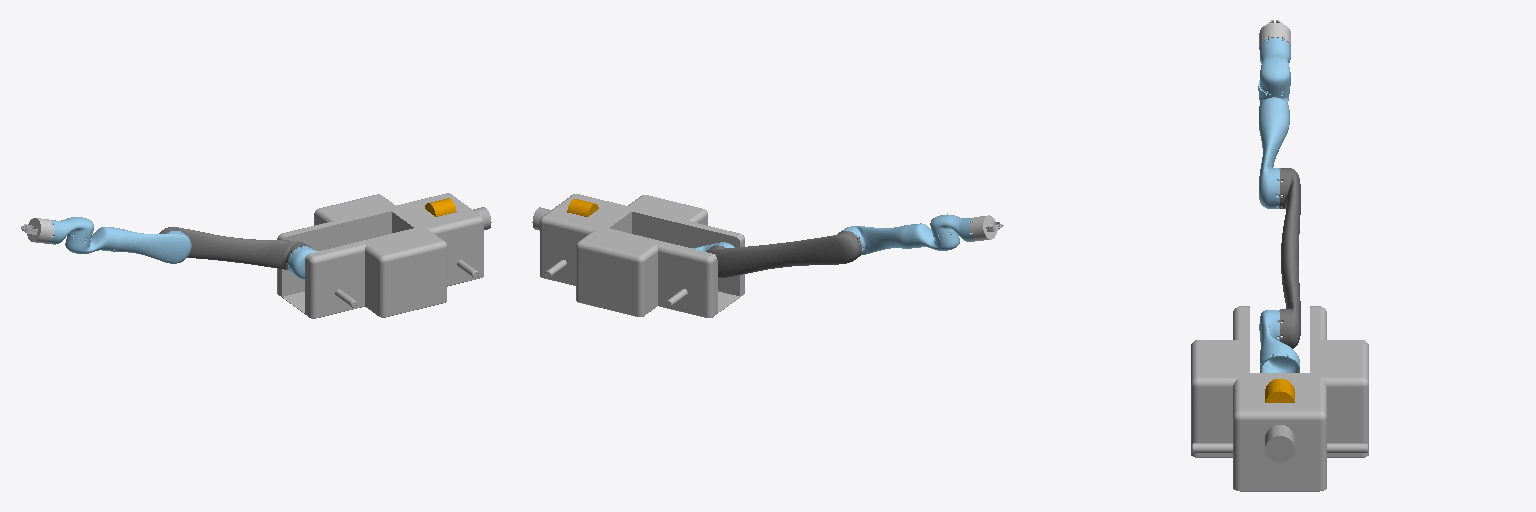
--- Render facts (derived) ---
3 views of the same robot in one strip: view 1: azimuth 30°, elevation 25°; view 2: azimuth 150°, elevation 25°; view 3: azimuth 270°, elevation 25° (orthographic).
Robot: mira — 18 links, 17 joints (5 revolute, 5 continuous, 7 fixed); root link base_link; default pose: every joint at zero.
Visible links, largest first — view 1: mobile_base_chassis, kinova_link2, kinova_link3, kinova_link4, kinova_link5, kinova_link6; view 2: mobile_base_chassis, kinova_link2, kinova_link3, kinova_link4, kinova_link5, kinova_link6; view 3: mobile_base_chassis, kinova_link2, kinova_link3, kinova_link1, kinova_link5, mobile_base_lidar_frame, mobile_base_2d_lidar_frame.
Boxes of the visible links, x1,y1,x2,y2 form: mobile_base_chassis: (277, 193, 483, 318); kinova_link2: (159, 227, 310, 269); kinova_link3: (112, 227, 191, 263); kinova_link4: (65, 227, 118, 253); kinova_link5: (48, 217, 93, 244); kinova_link6: (21, 218, 53, 243); mobile_base_chassis: (540, 194, 744, 317); kinova_link2: (706, 231, 861, 277); kinova_link3: (842, 224, 912, 256); kinova_link4: (906, 223, 959, 250); kinova_link5: (930, 214, 975, 241); kinova_link6: (970, 215, 1003, 240); mobile_base_chassis: (1191, 306, 1368, 491); kinova_link2: (1280, 168, 1300, 348); kinova_link3: (1259, 106, 1289, 208); kinova_link1: (1259, 310, 1299, 372); kinova_link5: (1260, 37, 1290, 94); mobile_base_lidar_frame: (1265, 425, 1294, 462); mobile_base_2d_lidar_frame: (1265, 379, 1294, 402).
Bounding box of the posed robot: 1.4 × 0.36 × 0.4387 m (x, y, z).
7 mesh visuals loaded from 10 distinct referenced files (6 binary STL); not drawn: 6 (reference not matched to a file when rendering).

URDF robot description (mira):
<?xml version="1.0" ?>
<!-- =================================================================================== -->
<!-- |    This document was autogenerated by xacro from mira.xacro                     | -->
<!-- |    EDITING THIS FILE BY HAND IS NOT RECOMMENDED                                 | -->
<!-- =================================================================================== -->
<robot name="mira">
  <link name="mobile_base_base_link"/>
  <joint name="mobile_base_base_link_to_base" type="fixed">
    <parent link="mobile_base_base_link"/>
    <child link="mobile_base_chassis"/>
    <origin rpy="1.5707963267948966 0 0" xyz="0 0 0"/>
  </joint>
  <link name="mobile_base_chassis">
    <visual>
      <origin rpy="0 -0 0" xyz="0 0 0"/>
      <geometry>
        <mesh filename="package://sps/urdf/mobile_base_models/chassis.stl"/>
      </geometry>
      <material name="chassis_material">
        <color rgba="0.74902 0.74902 0.74902 1.0"/>
      </material>
    </visual>
    <collision>
      <geometry>
        <mesh filename="package://sps/urdf/mobile_base_models/chassis.stl"/>
      </geometry>
    </collision>
    <inertial>
      <origin rpy="0 0 0" xyz="3.03885e-10 0.0866061 -4.21983e-12"/>
      <mass value="22"/>
      <inertia ixx="0.254" ixy="-1.648e-9" ixz="-2.434e-08" iyy="0.656" iyz="3.684e-10" izz="0.532"/>
    </inertial>
  </link>
  <gazebo reference="mobile_base_chassis">
    <material>Gazebo/DarkGrey</material>
  </gazebo>
  <joint name="mobile_base_joint_front_dx" type="continuous">
    <origin rpy="0 0 0" xyz="0.183 0.06 0.1355"/>
    <parent link="mobile_base_chassis"/>
    <child link="mobile_base_omniwheel_front_dx"/>
    <axis xyz="0 0 1"/>
    <limit effort="1" velocity="20"/>
    <joint_properties friction="0.0"/>
  </joint>
  <link name="mobile_base_omniwheel_front_dx">
    <visual>
      <origin rpy="3.141592653589793 0 0" xyz="0 0 0"/>
      <geometry>
        <mesh filename="package://sps/urdf/mobile_base_models/omniwheel_A.stl"/>
      </geometry>
    </visual>
    <collision>
      <origin rpy="3.141592653589793 0 0" xyz="0 0 0"/>
      <geometry>
        <cylinder length="0.08" radius="0.076"/>
      </geometry>
    </collision>
    <inertial>
      <origin rpy="0 1.5707963267948966 0" xyz="0 0 0"/>
      <mass value="3.5"/>
      <inertia ixx="0.006920666666666667" ixy="0" ixz="0" iyx="0" iyy="0.006920666666666667" iyz="0" izx="0" izy="0" izz="0.010108"/>
    </inertial>
  </link>
  <gazebo reference="mobile_base_omniwheel_front_dx">
    <material>Gazebo/Orange</material>
  </gazebo>
  <joint name="mobile_base_joint_front_sx" type="continuous">
    <origin rpy="0 0 0" xyz="0.183 0.06 -0.1355"/>
    <parent link="mobile_base_chassis"/>
    <child link="mobile_base_omniwheel_front_sx"/>
    <axis xyz="0 0 1"/>
    <limit effort="1" velocity="20"/>
    <joint_properties friction="0.0"/>
  </joint>
  <link name="mobile_base_omniwheel_front_sx">
    <visual>
      <origin rpy="3.141592653589793 0 0" xyz="0 0 0"/>
      <geometry>
        <mesh filename="package://sps/urdf/mobile_base_models/omniwheel_B.stl"/>
      </geometry>
    </visual>
    <collision>
      <origin rpy="3.141592653589793 0 0" xyz="0 0 0"/>
      <geometry>
        <cylinder length="0.08" radius="0.076"/>
      </geometry>
    </collision>
    <inertial>
      <origin rpy="0 1.5707963267948966 0" xyz="0 0 0"/>
      <mass value="3.5"/>
      <inertia ixx="0.006920666666666667" ixy="0" ixz="0" iyx="0" iyy="0.006920666666666667" iyz="0" izx="0" izy="0" izz="0.010108"/>
    </inertial>
  </link>
  <gazebo reference="mobile_base_omniwheel_front_sx">
    <material>Gazebo/Orange</material>
  </gazebo>
  <joint name="mobile_base_joint_rear_sx" type="continuous">
    <origin rpy="0 0 0" xyz="-0.183 0.06 -0.1355"/>
    <parent link="mobile_base_chassis"/>
    <child link="mobile_base_omniwheel_rear_sx"/>
    <axis xyz="0 0 1"/>
    <limit effort="1" velocity="20"/>
    <joint_properties friction="0.0"/>
  </joint>
  <link name="mobile_base_omniwheel_rear_sx">
    <visual>
      <origin rpy="3.141592653589793 0 0" xyz="0 0 0"/>
      <geometry>
        <mesh filename="package://sps/urdf/mobile_base_models/omniwheel_A.stl"/>
      </geometry>
    </visual>
    <collision>
      <origin rpy="3.141592653589793 0 0" xyz="0 0 0"/>
      <geometry>
        <cylinder length="0.08" radius="0.076"/>
      </geometry>
    </collision>
    <inertial>
      <origin rpy="0 1.5707963267948966 0" xyz="0 0 0"/>
      <mass value="3.5"/>
      <inertia ixx="0.006920666666666667" ixy="0" ixz="0" iyx="0" iyy="0.006920666666666667" iyz="0" izx="0" izy="0" izz="0.010108"/>
    </inertial>
  </link>
  <gazebo reference="mobile_base_omniwheel_rear_sx">
    <material>Gazebo/Orange</material>
  </gazebo>
  <joint name="mobile_base_joint_rear_dx" type="continuous">
    <origin rpy="0 0 0" xyz="-0.183 0.06 0.1355"/>
    <parent link="mobile_base_chassis"/>
    <child link="mobile_base_omniwheel_rear_dx"/>
    <axis xyz="0 0 1"/>
    <limit effort="1" velocity="20"/>
    <joint_properties friction="0.0"/>
  </joint>
  <link name="mobile_base_omniwheel_rear_dx">
    <visual>
      <origin rpy="3.141592653589793 0 0" xyz="0 0 0"/>
      <geometry>
        <mesh filename="package://sps/urdf/mobile_base_models/omniwheel_B.stl"/>
      </geometry>
    </visual>
    <collision>
      <origin rpy="3.141592653589793 0 0" xyz="0 0 0"/>
      <geometry>
        <cylinder length="0.08" radius="0.076"/>
      </geometry>
    </collision>
    <inertial>
      <origin rpy="0 1.5707963267948966 0" xyz="0 0 0"/>
      <mass value="3.5"/>
      <inertia ixx="0.006920666666666667" ixy="0" ixz="0" iyx="0" iyy="0.006920666666666667" iyz="0" izx="0" izy="0" izz="0.010108"/>
    </inertial>
  </link>
  <gazebo reference="mobile_base_omniwheel_rear_dx">
    <material>Gazebo/Orange</material>
  </gazebo>
  <joint name="mobile_base_camera_joint" type="fixed">
    <origin rpy="1.5707963267948966 0 1.5707963267948966" xyz="0.285 0 0.075"/>
    <parent link="mobile_base_base_link"/>
    <child link="mobile_base_camera_rgb_frame"/>
  </joint>
  <link name="mobile_base_camera_rgb_frame">
    <visual name="visual">
      <pose>0 0 0.27 0 0 0</pose>
      <geometry>
        <mesh filename="package://realsense2_description/meshes/d435.dae"/>
      </geometry>
    </visual>
    <collision>
      <origin rpy="0 0 0" xyz="0 0 0"/>
      <geometry>
        <cylinder length="0.062" radius="0.03"/>
      </geometry>
    </collision>
  </link>
  <gazebo reference="mobile_base_camera_rgb_frame">
    <material>Gazebo/Orange</material>
  </gazebo>
  <joint name="mobile_base_lidar_joint" type="fixed">
    <origin rpy="1.5707963267948966 0 1.5707963267948966" xyz="0.285 0 0.12"/>
    <parent link="mobile_base_base_link"/>
    <child link="mobile_base_lidar_frame"/>
  </joint>
  <link name="mobile_base_lidar_frame">
    <visual name="visual">
      <pose>0 0 0.27 0 0 0</pose>
      <geometry>
        <cylinder length="0.062" radius="0.03"/>
      </geometry>
    </visual>
    <collision>
      <origin rpy="0 0 0" xyz="0 0 0"/>
      <geometry>
        <cylinder length="0.062" radius="0.03"/>
      </geometry>
    </collision>
  </link>
  <gazebo reference="mobile_base_lidar_frame">
    <material>Gazebo/Orange</material>
  </gazebo>
  <joint name="mobile_base_2d_lidar_joint" type="fixed">
    <origin rpy="1.5707963267948966 0 1.5707963267948966" xyz="0.18 0 0.17"/>
    <parent link="mobile_base_base_link"/>
    <child link="mobile_base_2d_lidar_frame"/>
  </joint>
  <link name="mobile_base_2d_lidar_frame">
    <visual name="visual">
      <pose>0 0 0.27 0 0 0</pose>
      <geometry>
        <cylinder length="0.062" radius="0.03"/>
      </geometry>
    </visual>
    <collision>
      <origin rpy="0 0 0" xyz="0 0 0"/>
      <geometry>
        <cylinder length="0.062" radius="0.03"/>
      </geometry>
    </collision>
  </link>
  <gazebo reference="mobile_base_2d_lidar_frame">
    <material>Gazebo/Orange</material>
  </gazebo>
  <gazebo>
    <plugin filename="libgazebo_ros_planar_move.so" name="robot_controller">
      <commandTopic>cmd_vel</commandTopic>
      <odometryTopic>odom</odometryTopic>
      <odometryFrame>odom</odometryFrame>
      <odometryRate>20.0</odometryRate>
      <robotBaseFrame>base_link</robotBaseFrame>
    </plugin>
  </gazebo>
  <gazebo reference="mobile_base_camera_rgb_frame">
    <sensor name="camera" type="camera">
      <update_rate>30.0</update_rate>
      <camera name="head">
        <horizontal_fov>1.97222</horizontal_fov>
        <image>
          <width>1920</width>
          <height>1080</height>
          <format>R8G8B8</format>
        </image>
        <clip>
          <near>0.02</near>
          <far>100</far>
        </clip>
        <noise>
          <type>gaussian</type>
          <mean>0.0</mean>
          <stddev>0.007</stddev>
        </noise>
      </camera>
      <plugin filename="libgazebo_ros_camera.so" name="camera_controller">
        <alwaysOn>true</alwaysOn>
        <updateRate>0.0</updateRate>
        <cameraName>mobile_base_camera</cameraName>
        <imageTopicName>mobile_base_image_raw</imageTopicName>
        <cameraInfoTopicName>mobile_base_camera_info</cameraInfoTopicName>
        <frameName>mobile_base_camera_rgb_optical_frame</frameName>
        <hackBaseline>0.07</hackBaseline>
        <distortionK1>-0.35925741</distortionK1>
        <distortionK2>0.16575977</distortionK2>
        <distortionK3>-0.03662964</distortionK3>
        <distortionT1>0.00264587</distortionT1>
        <distortionT2>0.00037099</distortionT2>
      </plugin>
    </sensor>
  </gazebo>
  <!-- Bumpers -->
  <gazebo reference="mobile_base_chassis">
    <sensor name="mobile_base_chassis_bumper" type="contact">
      <alwaysOn>true</alwaysOn>
      <updateRate>30.0</updateRate>
      <contact>
        <collision>base_link_fixed_joint_lump__mobile_base_chassis_collision</collision>
      </contact>
      <plugin filename="libgazebo_ros_bumper.so" name="gazebo_ros_bumper_controller">
        <bumperTopicName>bumper</bumperTopicName>
        <frameName>world</frameName>
        <updateRate>30.0</updateRate>
      </plugin>
    </sensor>
  </gazebo>
  <gazebo reference="mobile_base_omniwheel_front_dx">
    <sensor name="mobile_base_omniwheel_front_dx_collision_bumper" type="contact">
      <alwaysOn>true</alwaysOn>
      <updateRate>30.0</updateRate>
      <contact>
        <collision>mobile_base_omniwheel_front_dx_collision</collision>
      </contact>
      <plugin filename="libgazebo_ros_bumper.so" name="gazebo_ros_bumper_controller">
        <bumperTopicName>bumper</bumperTopicName>
        <frameName>world</frameName>
        <updateRate>30.0</updateRate>
      </plugin>
    </sensor>
  </gazebo>
  <gazebo reference="mobile_base_omniwheel_front_sx">
    <sensor name="mobile_base_omniwheel_front_sx_collision_bumper" type="contact">
      <alwaysOn>true</alwaysOn>
      <updateRate>30.0</updateRate>
      <contact>
        <collision>mobile_base_omniwheel_front_sx_collision</collision>
      </contact>
      <plugin filename="libgazebo_ros_bumper.so" name="gazebo_ros_bumper_controller">
        <bumperTopicName>bumper</bumperTopicName>
        <frameName>world</frameName>
        <updateRate>30.0</updateRate>
      </plugin>
    </sensor>
  </gazebo>
  <gazebo reference="mobile_base_omniwheel_rear_dx">
    <sensor name="mobile_base_omniwheel_rear_dx_collision_bumper" type="contact">
      <alwaysOn>true</alwaysOn>
      <updateRate>30.0</updateRate>
      <contact>
        <collision>mobile_base_omniwheel_rear_dx_collision</collision>
      </contact>
      <plugin filename="libgazebo_ros_bumper.so" name="gazebo_ros_bumper_controller">
        <bumperTopicName>bumper</bumperTopicName>
        <frameName>world</frameName>
        <updateRate>30.0</updateRate>
      </plugin>
    </sensor>
  </gazebo>
  <gazebo reference="mobile_base_omniwheel_rear_sx">
    <sensor name="mobile_base_omniwheel_rear_sx_collision_bumper" type="contact">
      <alwaysOn>true</alwaysOn>
      <updateRate>30.0</updateRate>
      <contact>
        <collision>mobile_base_omniwheel_rear_sx_collision</collision>
      </contact>
      <plugin filename="libgazebo_ros_bumper.so" name="gazebo_ros_bumper_controller">
        <bumperTopicName>bumper</bumperTopicName>
        <frameName>world</frameName>
        <updateRate>30.0</updateRate>
      </plugin>
    </sensor>
  </gazebo>
  <gazebo>
    <plugin filename="libgazebo_ros_p3d.so" name="p3d_base_controller">
      <alwaysOn>true</alwaysOn>
      <updateRate>50.0</updateRate>
      <bodyName>base_link</bodyName>
      <topicName>ground_truth/odom</topicName>
      <gaussianNoise>0.01</gaussianNoise>
      <frameName>world</frameName>
      <xyzOffsets>0 0 0</xyzOffsets>
      <rpyOffsets>0 0 0</rpyOffsets>
    </plugin>
  </gazebo>
  <!-- The following is an handmade document. Please refer to the official repository at https://github.com/Kinovarobotics/kinova-ros/blob/master/kinova_description/urdf/j2s6s200_standalone.xacro -->
  <!-- Size of square 'camera' box -->
  <link name="kinova_base_link"/>
  <joint name="kinova_base_link_to_base" type="fixed">
    <parent link="kinova_base_link"/>
    <child link="kinova_link0"/>
    <origin rpy="0 0 0" xyz="0 0 0"/>
  </joint>
  <link name="kinova_link0">
    <visual>
      <origin rpy="0 0 0" xyz="0 0 0"/>
      <geometry>
        <mesh filename="package://sps/urdf/kinova_models/link0.stl"/>
      </geometry>
      <material name="link0_material">
        <color rgba="0.972549 0.529412 0.00392157 1"/>
      </material>
    </visual>
    <collision>
      <origin rpy="0 0 0" xyz="0 0 0"/>
      <geometry>
        <mesh filename="package://sps/urdf/kinova_models/link0.stl"/>
      </geometry>
      <material name="link0_material">
        <color rgba="0.972549 0.529412 0.00392157 1"/>
      </material>
    </collision>
    <inertial>
      <origin rpy="0 0 0" xyz="0 0 0.07825"/>
      <mass value="0.46784"/>
      <inertia ixx="0.0009512746666666666" ixy="0" ixz="0" iyx="0" iyy="0.0009512746666666666" iyz="0" izx="0" izy="0" izz="0.00037427200000000004"/>
    </inertial>
  </link>
  <gazebo reference="kinova_link0">
    <material>Gazebo/Indigo</material>
  </gazebo>
  <joint name="kinova_joint1" type="revolute">
    <origin rpy="0 0 0" xyz="0 0 0.1565"/>
    <parent link="kinova_link0"/>
    <child link="kinova_link1"/>
    <axis xyz="0 0 1"/>
    <limit effort="1" lower="-3.141592653589793" torque="40" upper="3.141592653589793" velocity="0.6283185307179586"/>
    <joint_properties friction="0"/>
  </joint>
  <link name="kinova_link1">
    <visual>
      <origin rpy="0 -1.5707963267948966 0" xyz="0 0 0"/>
      <geometry>
        <mesh filename="package://sps/urdf/kinova_models/link1.stl"/>
      </geometry>
      <material name="link1_material">
        <color rgba="0.615686 0.811765 0.929412 1"/>
      </material>
    </visual>
    <collision>
      <origin rpy="0 -1.5707963267948966 0" xyz="0 0 0"/>
      <geometry>
        <mesh filename="package://sps/urdf/kinova_models/link1.stl"/>
      </geometry>
      <material name="link1_material">
        <color rgba="0.615686 0.811765 0.929412 1"/>
      </material>
    </collision>
    <inertial>
      <origin xyz="0 0.0007 0.05925"/>
      <mass value="0.7477"/>
      <inertia ixx="0.0015203233333333334" ixy="0" ixz="0" iyx="0" iyy="0.0015203233333333334" iyz="0" izx="0" izy="0" izz="0.00059816"/>
    </inertial>
  </link>
  <gazebo reference="kinova_link1">
    <material>Gazebo/Indigo</material>
  </gazebo>
  <joint name="kinova_joint2" type="revolute">
    <origin rpy="0 -1.5707963267948966 0" xyz="0 0.0015 0.1185"/>
    <parent link="kinova_link1"/>
    <child link="kinova_link2"/>
    <axis xyz="0 0 1"/>
    <limit effort="1" lower="-3.141592653589793" torque="80" upper="3.141592653589793" velocity="0.6283185307179586"/>
    <joint_properties friction="0.0"/>
  </joint>
  <link name="kinova_link2">
    <visual>
      <origin rpy="-1.5707963267948966 -1.5707963267948966 1.5707963267948966" xyz="0 0 0"/>
      <geometry>
        <mesh filename="package://sps/urdf/kinova_models/link2.stl"/>
      </geometry>
      <material name="link2_material">
        <color rgba="0.498039 0.498039 0.498039 1.0"/>
      </material>
    </visual>
    <collision>
      <origin rpy="-1.5707963267948966 -1.5707963267948966 1.5707963267948966" xyz="0 0 0"/>
      <geometry>
        <mesh filename="package://sps/urdf/kinova_models/link2.stl"/>
      </geometry>
      <material name="link2_material">
        <color rgba="0.498039 0.498039 0.498039 1.0"/>
      </material>
    </collision>
    <inertial>
      <origin rpy="-1.5707963267948966 -1.5707963267948966 1.5707963267948966" xyz="0.205 0 0"/>
      <mass value="0.99"/>
      <inertia ixx="0.01050225" ixy="0" ixz="0" iyx="0" iyy="0.01050225" iyz="0" izx="0" izy="0" izz="0.0007920000000000001"/>
    </inertial>
  </link>
  <gazebo reference="kinova_link2">
    <material>Gazebo/Indigo</material>
  </gazebo>
  <joint name="kinova_joint3" type="revolute">
    <origin rpy="0 0 0" xyz="0.41 0 0"/>
    <parent link="kinova_link2"/>
    <child link="kinova_link3"/>
    <axis xyz="0 0 1"/>
    <limit effort="1" lower="-3.141592653589793" torque="40" upper="3.141592653589793" velocity="0.6283185307179586"/>
    <joint_properties friction="0.0"/>
  </joint>
  <link name="kinova_link3">
    <visual>
      <origin rpy="3.141592653589793 1.5707963267948966 0" xyz="0 0 0"/>
      <geometry>
        <mesh filename="package://sps/urdf/kinova_models/link3.stl"/>
      </geometry>
      <material name="link3_material">
        <color rgba="0.615686 0.811765 0.929412 1.0"/>
      </material>
    </visual>
    <collision>
      <origin rpy="3.141592653589793 1.5707963267948966 0" xyz="0 0 0"/>
      <geometry>
        <mesh filename="package://sps/urdf/kinova_models/link3.stl"/>
      </geometry>
      <material name="link3_material">
        <color rgba="0.615686 0.811765 0.929412 1.0"/>
      </material>
    </collision>
    <inertial>
      <origin rpy="3.141592653589793 1.5707963267948966 0" xyz="0.1035 0  -0.005625"/>
      <mass value="0.6763"/>
      <inertia ixx="0.0014202300000000002" ixy="0" ixz="0" iyx="0" iyy="0.0014202300000000002" iyz="0" izx="0" izy="0" izz="0.000304335"/>
    </inertial>
  </link>
  <gazebo reference="kinova_link3">
    <material>Gazebo/Indigo</material>
  </gazebo>
  <joint name="kinova_joint4" type="revolute">
    <origin rpy="0 1.5707963267948966 0" xyz="0.207 0  -0.01125"/>
    <parent link="kinova_link3"/>
    <child link="kinova_link4"/>
    <axis xyz="0 0 1"/>
    <limit effort="1" lower="-3.141592653589793" torque="20" upper="3.141592653589793" velocity="0.8377580409572781"/>
    <joint_properties friction="0.0"/>
  </joint>
  <link name="kinova_link4">
    <visual>
      <origin rpy="0 -1.5707963267948966 0" xyz="0 0 0"/>
      <geometry>
        <mesh filename="package://sps/urdf/kinova_models/link4.stl"/>
      </geometry>
      <material name="link4_material">
        <color rgba="0.615686 0.811765 0.929412 1.0"/>
      </material>
    </visual>
    <collision>
      <origin rpy="0 -1.5707963267948966 0" xyz="0 0 0"/>
      <geometry>
        <mesh filename="package://sps/urdf/kinova_models/link4.stl"/>
      </geometry>
      <material name="link4_material">
        <color rgba="0.615686 0.811765 0.929412 1.0"/>
      </material>
    </collision>
    <inertial>
      <origin rpy="0 0 0" xyz="-0.00125 0 0.04825"/>
      <mass value="0.463"/>
      <inertia ixx="0.00043213333333333345" ixy="0" ixz="0" iyx="0" iyy="0.00043213333333333345" iyz="0" izx="0" izy="0" izz="9.260000000000001e-05"/>
    </inertial>
  </link>
  <gazebo reference="kinova_link4">
    <material>Gazebo/Indigo</material>
  </gazebo>
  <joint name="kinova_joint5" type="continuous">
    <origin rpy="-1.5707963267948966 -1.5707963267948966 0" xyz="-0.0025 0 0.0965"/>
    <parent link="kinova_link4"/>
    <child link="kinova_link5"/>
    <axis xyz="0 0 1"/>
    <limit effort="1" lower="-3.141592653589793" torque="20" upper="3.141592653589793" velocity="0.8377580409572781"/>
    <joint_properties friction="0.0"/>
  </joint>
  <link name="kinova_link5">
    <visual>
      <origin rpy="-1.5707963267948966 0 3.141592653589793" xyz="0.0965 0 0"/>
      <geometry>
        <mesh filename="package://sps/urdf/kinova_models/link4.stl"/>
      </geometry>
      <material name="link4_material">
        <color rgba="0.615686 0.811765 0.929412 1.0"/>
      </material>
    </visual>
    <collision>
      <origin rpy="-1.5707963267948966 0 3.141592653589793" xyz="0.0965 0 0"/>
      <geometry>
        <mesh filename="package://sps/urdf/kinova_models/link4.stl"/>
      </geometry>
      <material name="link4_material">
        <color rgba="0.615686 0.811765 0.929412 1.0"/>
      </material>
    </collision>
    <inertial>
      <origin rpy="0 1.5707963267948966 0" xyz="0.05175 0 0.000125"/>
      <mass value="0.463"/>
      <inertia ixx="0.00043213333333333345" ixy="0" ixz="0" iyx="0" iyy="0.00043213333333333345" iyz="0" izx="0" izy="0" izz="9.260000000000001e-05"/>
    </inertial>
  </link>
  <gazebo reference="kinova_link5">
    <material>Gazebo/Indigo</material>
  </gazebo>
  <joint name="kinova_joint6" type="revolute">
    <origin rpy="1.5707963267948966 0 1.5707963267948966" xyz="0.101 0 0.00025"/>
    <parent link="kinova_link5"/>
    <child link="kinova_link6"/>
    <axis xyz="0 0 1"/>
    <limit effort="1" lower="-3.141592653589793" torque="20" upper="3.141592653589793" velocity="0.8377580409572781"/>
    <joint_properties friction="0.0"/>
  </joint>
  <link name="kinova_link6">
    <visual>
      <origin rpy="0 0 0" xyz="0 0 0"/>
      <geometry>
        <mesh filename="package://sps/urdf/kinova_models/link6.stl"/>
      </geometry>
      <material name="armsuppaxis001_(solid)_material">
        <color rgba="0.8 0.8 0.8 1.0"/>
      </material>
    </visual>
    <collision>
      <origin rpy="0 0 0" xyz="0 0 0"/>
      <geometry>
        <mesh filename="package://sps/urdf/kinova_models/link6.stl"/>
      </geometry>
      <material name="armsuppaxis001_(solid)_material">
        <color rgba="0.8 0.8 0.8 1.0"/>
      </material>
    </collision>
    <inertial>
      <origin rpy="0 0 0" xyz="0 0 0.032347"/>
      <mass value="0.059265"/>
      <inertia ixx="2.97358e-05" ixy="-5.33355e-13" ixz="-1.85073e-09" iyy="3.04484e-05" iyz="-4.08259e-11" izz="3.72715e-05"/>
    </inertial>
  </link>
  <gazebo reference="kinova_link6">
    <material>Gazebo/White</material>
  </gazebo>
  <gazebo reference="kinova_camera_rgb_frame">
    <material>Gazebo/Orange</material>
  </gazebo>
  <gazebo reference="kinova_link0">
    <selfCollide>true</selfCollide>
  </gazebo>
  <gazebo reference="kinova_link1">
    <selfCollide>true</selfCollide>
  </gazebo>
  <gazebo reference="kinova_link2">
    <selfCollide>true</selfCollide>
  </gazebo>
  <gazebo reference="kinova_link3">
    <selfCollide>true</selfCollide>
  </gazebo>
  <gazebo reference="kinova_link4">
    <selfCollide>true</selfCollide>
  </gazebo>
  <gazebo reference="kinova_link5">
    <selfCollide>true</selfCollide>
  </gazebo>
  <gazebo reference="kinova_link6">
    <selfCollide>true</selfCollide>
  </gazebo>
  <!-- Camera -->
  <gazebo reference="kinova_camera_rgb_frame">
    <sensor name="camera" type="camera">
      <update_rate>30.0</update_rate>
      <camera name="head">
        <horizontal_fov>1.97222</horizontal_fov>
        <image>
          <width>1920</width>
          <height>1080</height>
          <format>R8G8B8</format>
        </image>
        <clip>
          <near>0.02</near>
          <far>100</far>
        </clip>
        <noise>
          <type>gaussian</type>
          <mean>0.0</mean>
          <stddev>0.007</stddev>
        </noise>
      </camera>
      <plugin filename="libgazebo_ros_camera.so" name="camera_controller">
        <alwaysOn>true</alwaysOn>
        <updateRate>0.0</updateRate>
        <cameraName>kinova_camera</cameraName>
        <imageTopicName>kinova_image_raw</imageTopicName>
        <cameraInfoTopicName>kinova_camera_info</cameraInfoTopicName>
        <frameName>kinova_camera_rgb_optical_frame</frameName>
        <hackBaseline>0.07</hackBaseline>
        <distortionK1>-0.35925741</distortionK1>
        <distortionK2>0.16575977</distortionK2>
        <distortionK3>-0.03662964</distortionK3>
        <distortionT1>0.00264587</distortionT1>
        <distortionT2>0.00037099</distortionT2>
      </plugin>
    </sensor>
  </gazebo>
  <!-- Bumpers -->
  <gazebo reference="kinova_link0">
    <sensor name="kinova_link0_bumper" type="contact">
      <alwaysOn>true</alwaysOn>
      <updateRate>30.0</updateRate>
      <contact>
        <collision>base_link_fixed_joint_lump__kinova_link0_collision_1</collision>
      </contact>
      <plugin filename="libgazebo_ros_bumper.so" name="gazebo_ros_bumper_controller">
        <bumperTopicName>bumper</bumperTopicName>
        <frameName>world</frameName>
        <updateRate>30.0</updateRate>
      </plugin>
    </sensor>
  </gazebo>
  <gazebo reference="kinova_link1">
    <sensor name="kinova_link1_bumper" type="contact">
      <alwaysOn>true</alwaysOn>
      <updateRate>30.0</updateRate>
      <contact>
        <collision>kinova_link1_collision</collision>
      </contact>
      <plugin filename="libgazebo_ros_bumper.so" name="gazebo_ros_bumper_controller">
        <bumperTopicName>bumper</bumperTopicName>
        <frameName>world</frameName>
        <updateRate>30.0</updateRate>
      </plugin>
    </sensor>
  </gazebo>
  <gazebo reference="kinova_link2">
    <sensor name="kinova_link2_bumper" type="contact">
      <alwaysOn>true</alwaysOn>
      <updateRate>30.0</updateRate>
      <contact>
        <collision>kinova_link2_collision</collision>
      </contact>
      <plugin filename="libgazebo_ros_bumper.so" name="gazebo_ros_bumper_controller">
        <bumperTopicName>bumper</bumperTopicName>
        <frameName>world</frameName>
        <updateRate>30.0</updateRate>
      </plugin>
    </sensor>
  </gazebo>
  <gazebo reference="kinova_link3">
    <sensor name="kinova_link3_bumper" type="contact">
      <alwaysOn>true</alwaysOn>
      <updateRate>30.0</updateRate>
      <contact>
        <collision>kinova_link3_collision</collision>
      </contact>
      <plugin filename="libgazebo_ros_bumper.so" name="gazebo_ros_bumper_controller">
        <bumperTopicName>bumper</bumperTopicName>
        <frameName>world</frameName>
        <updateRate>30.0</updateRate>
      </plugin>
    </sensor>
  </gazebo>
  <gazebo reference="kinova_link4">
    <sensor name="kinova_link4_bumper" type="contact">
      <alwaysOn>true</alwaysOn>
      <updateRate>30.0</updateRate>
      <contact>
        <collision>kinova_link4_collision</collision>
      </contact>
      <plugin filename="libgazebo_ros_bumper.so" name="gazebo_ros_bumper_controller">
        <bumperTopicName>bumper</bumperTopicName>
        <frameName>world</frameName>
        <updateRate>30.0</updateRate>
      </plugin>
    </sensor>
  </gazebo>
  <gazebo reference="kinova_link5">
    <sensor name="kinova_link5_bumper" type="contact">
      <alwaysOn>true</alwaysOn>
      <updateRate>30.0</updateRate>
      <contact>
        <collision>kinova_link5_collision</collision>
      </contact>
      <plugin filename="libgazebo_ros_bumper.so" name="gazebo_ros_bumper_controller">
        <bumperTopicName>bumper</bumperTopicName>
        <frameName>world</frameName>
        <updateRate>30.0</updateRate>
      </plugin>
    </sensor>
  </gazebo>
  <gazebo reference="kinova_link6">
    <sensor name="kinova_link6_bumper" type="contact">
      <alwaysOn>true</alwaysOn>
      <updateRate>30.0</updateRate>
      <contact>
        <collision>kinova_link6_collision</collision>
      </contact>
      <plugin filename="libgazebo_ros_bumper.so" name="gazebo_ros_bumper_controller">
        <bumperTopicName>bumper</bumperTopicName>
        <frameName>world</frameName>
        <updateRate>30.0</updateRate>
      </plugin>
    </sensor>
  </gazebo>
  <!-- Controller -->
  <gazebo>
    <plugin filename="libgazebo_ros_control.so" name="gazebo_ros_control">
		</plugin>
  </gazebo>
  <transmission name="kinova_joint1_trans">
    <type>transmission_interface/SimpleTransmission</type>
    <joint name="kinova_joint1">
      <hardwareInterface>hardware_interface/PositionJointInterface</hardwareInterface>
    </joint>
    <actuator name="kinova_joint1_motor">
      <hardwareInterface>hardware_interface/PositionJointInterface</hardwareInterface>
      <mechanicalReduction>1</mechanicalReduction>
    </actuator>
  </transmission>
  <transmission name="kinova_joint2_trans">
    <type>transmission_interface/SimpleTransmission</type>
    <joint name="kinova_joint2">
      <hardwareInterface>hardware_interface/PositionJointInterface</hardwareInterface>
    </joint>
    <actuator name="kinova_joint2_motor">
      <hardwareInterface>hardware_interface/PositionJointInterface</hardwareInterface>
      <mechanicalReduction>1</mechanicalReduction>
    </actuator>
  </transmission>
  <transmission name="kinova_joint3_trans">
    <type>transmission_interface/SimpleTransmission</type>
    <joint name="kinova_joint3">
      <hardwareInterface>hardware_interface/PositionJointInterface</hardwareInterface>
    </joint>
    <actuator name="kinova_joint3_motor">
      <hardwareInterface>hardware_interface/PositionJointInterface</hardwareInterface>
      <mechanicalReduction>1</mechanicalReduction>
    </actuator>
  </transmission>
  <transmission name="kinova_joint4_trans">
    <type>transmission_interface/SimpleTransmission</type>
    <joint name="kinova_joint4">
      <hardwareInterface>hardware_interface/PositionJointInterface</hardwareInterface>
    </joint>
    <actuator name="kinova_joint4_motor">
      <hardwareInterface>hardware_interface/PositionJointInterface</hardwareInterface>
      <mechanicalReduction>1</mechanicalReduction>
    </actuator>
  </transmission>
  <transmission name="kinova_joint5_trans">
    <type>transmission_interface/SimpleTransmission</type>
    <joint name="kinova_joint5">
      <hardwareInterface>hardware_interface/PositionJointInterface</hardwareInterface>
    </joint>
    <actuator name="kinova_joint5_motor">
      <hardwareInterface>hardware_interface/PositionJointInterface</hardwareInterface>
      <mechanicalReduction>1</mechanicalReduction>
    </actuator>
  </transmission>
  <transmission name="kinova_joint6_trans">
    <type>transmission_interface/SimpleTransmission</type>
    <joint name="kinova_joint6">
      <hardwareInterface>hardware_interface/PositionJointInterface</hardwareInterface>
    </joint>
    <actuator name="kinova_joint6_motor">
      <hardwareInterface>hardware_interface/PositionJointInterface</hardwareInterface>
      <mechanicalReduction>1</mechanicalReduction>
    </actuator>
  </transmission>
  <link name="base_link"/>
  <joint name="basejoining" type="fixed">
    <parent link="base_link"/>
    <child link="mobile_base_base_link"/>
    <origin rpy="0 0 0" xyz="0 0 0"/>
  </joint>
  <joint name="joining" type="fixed">
    <parent link="mobile_base_chassis"/>
    <child link="kinova_base_link"/>
    <origin rpy="-0.331613 -1.57 0" xyz="0.021 0.037667 0"/>
  </joint>
</robot>
